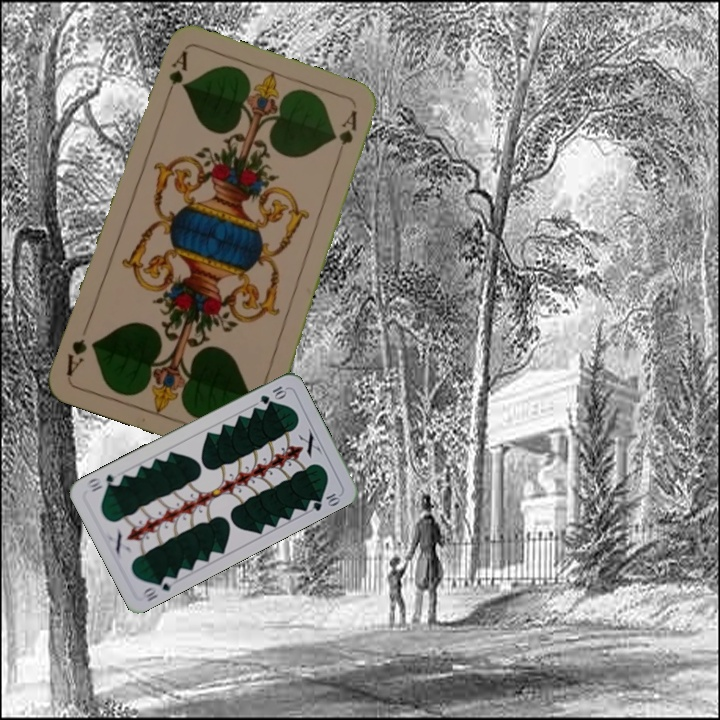G10: (139, 572, 178, 604), (256, 382, 289, 407)
GA: (160, 47, 190, 104)
